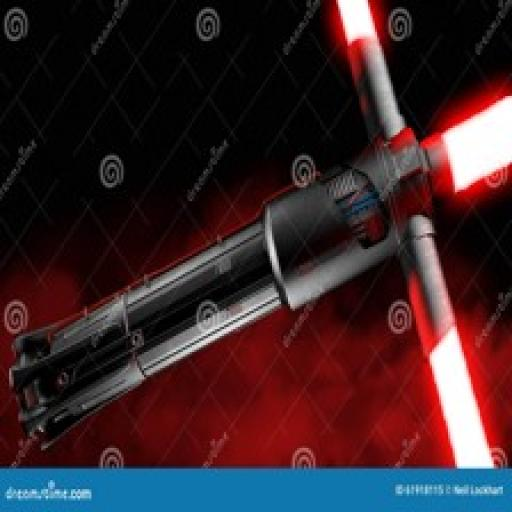sith saber: (12, 2, 510, 469)
